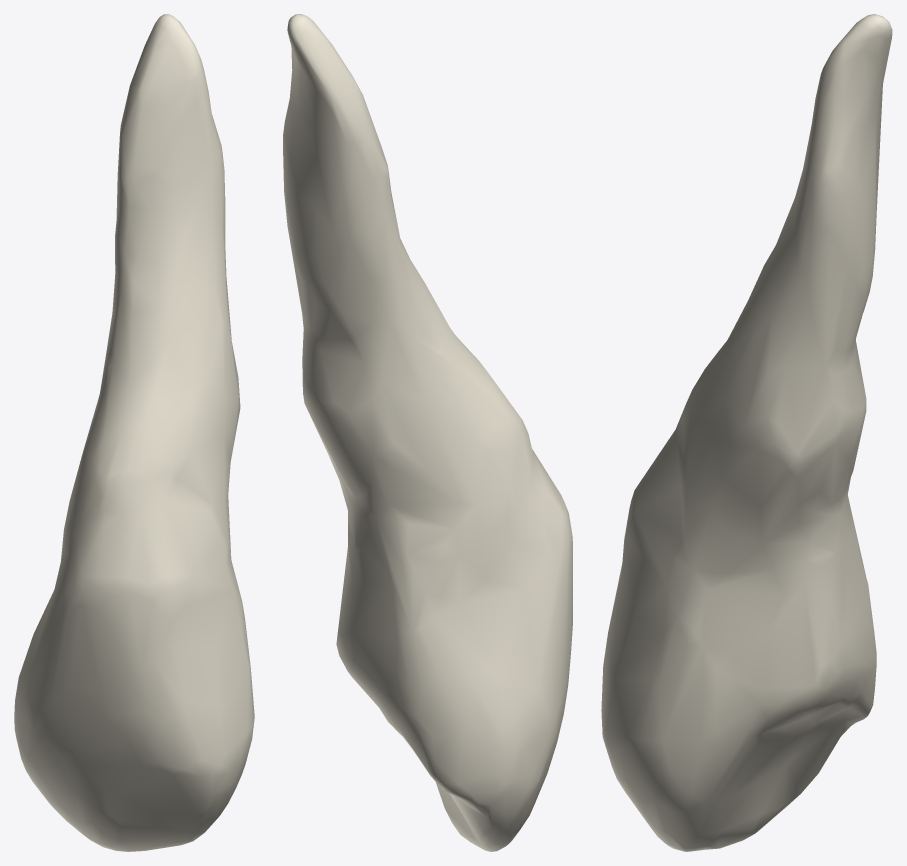
3 renders of one model, left to right at view 1: azimuth 30°, elevation 25°; view 2: azimuth 150°, elevation 25°; view 3: azimuth 270°, elevation 25°, orthographic. The views are drawn at different scales.
Parts seen in each view (by area): view 1: ZA_0e5ce44b0cdfe44d; view 2: ZA_0e5ce44b0cdfe44d; view 3: ZA_0e5ce44b0cdfe44d.
Boxes of the visible parts, left/top/right/bottom form: ZA_0e5ce44b0cdfe44d: left=14, top=14, right=254, bottom=851; ZA_0e5ce44b0cdfe44d: left=283, top=14, right=572, bottom=851; ZA_0e5ce44b0cdfe44d: left=601, top=14, right=892, bottom=851.
Size of the model in its own units: 0.00906 by 0.0306 by 0.0091.
